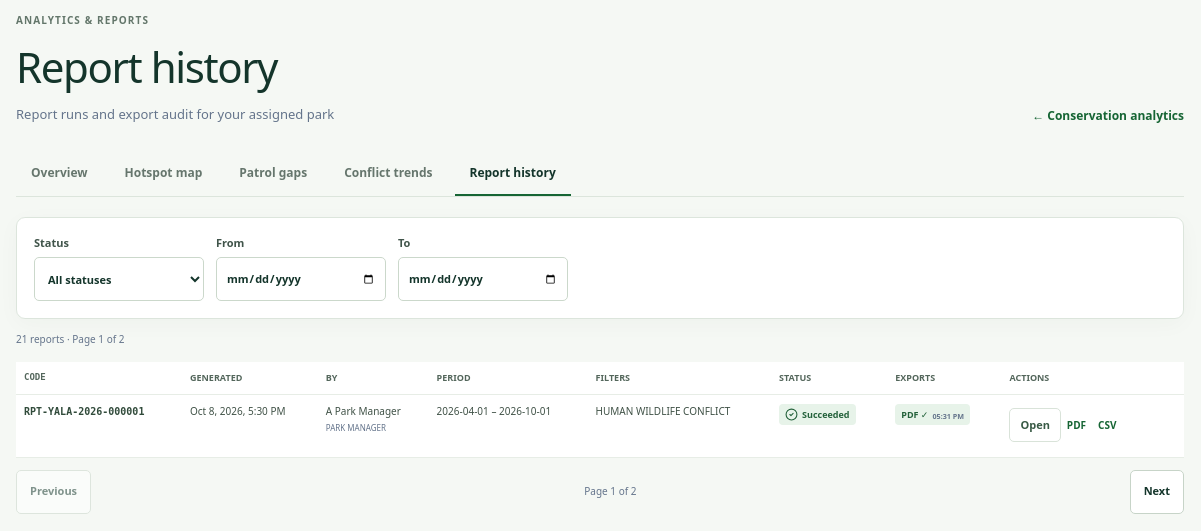
Scenario: M4 P7 analytics views › filters history, preserves report filters when reopening, and paginates
Expected: the column heading "RPT-YALA-2026-000001" is shown, [16,394,182,457]
Expected: the column heading "By" is shown, [318,362,429,394]
Select "Succeeded" in the dropdown named "Report status" at (119,279), box [34,257,204,301]
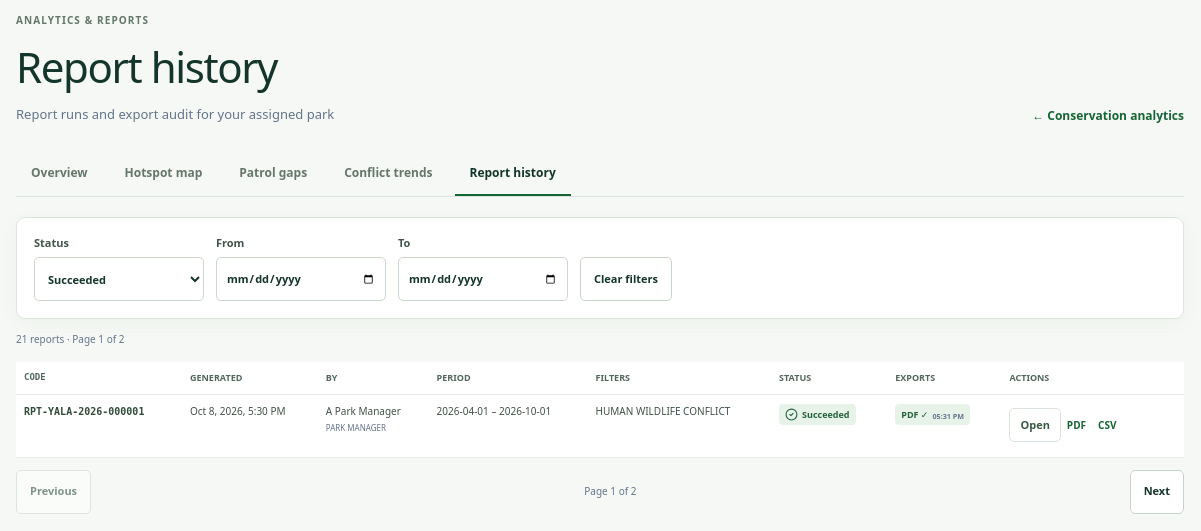
Click the button "Next" at (1157,492), box [1130,470,1184,514]
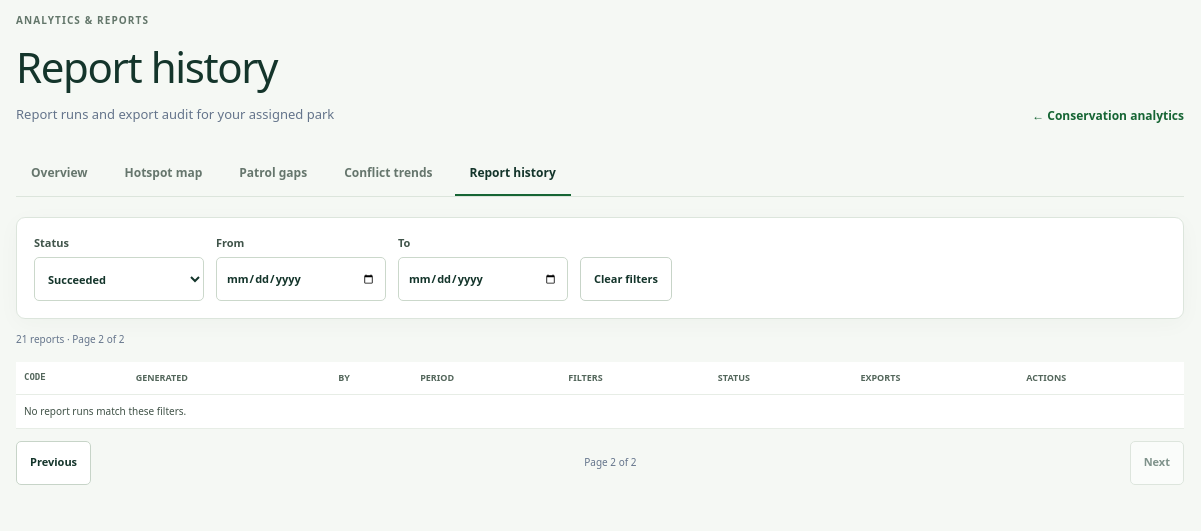
Expected: the text "Page 2 of 2" is shown, [584,455,636,470]
